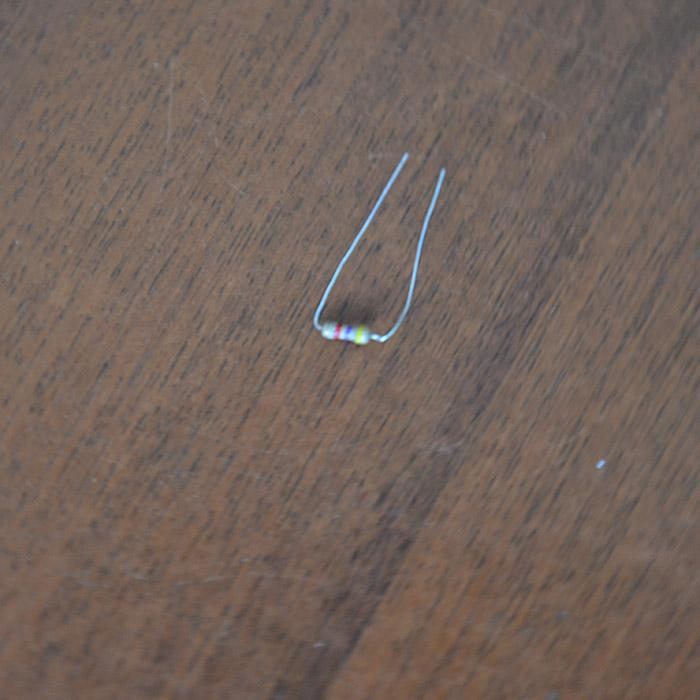resistor: (321, 318, 374, 345)
